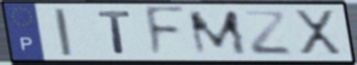F: (143, 5, 189, 61)
I: (51, 7, 75, 58)
M: (185, 8, 251, 57)
T: (95, 9, 135, 56)
X: (292, 8, 345, 58)
Z: (241, 9, 294, 57)
